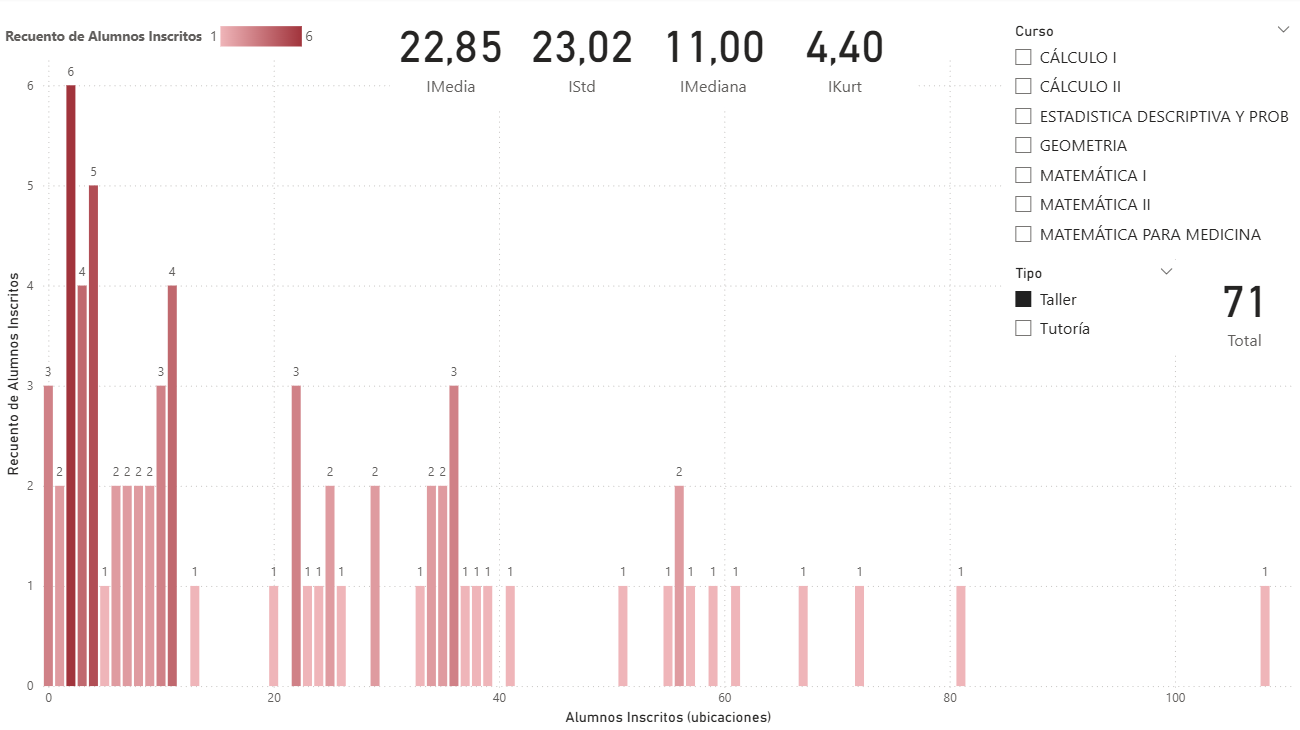

The page's visual inventory and layout, read from the dashboard file:
{"tool":"powerbi","page":{"name":"Puntualidad","canvas":[1280,720],"ordinal":3},"visuals":[{"type":"clusteredColumnChart","fields":{"Y":["CountNonNull(FullMeetingsInfoExtra - Jun -Aug (Clean).Puntualidad (minutos))"],"Category":["Meetings - Jun -Aug (Clean).Puntualidad (minutos) (ubicaciones)"]},"box":[0,19.6,1280,700.4],"z":0},{"type":"slicer","fields":{"Values":["Meetings - Jun -Aug (Clean).Tipo"]},"box":[1146.4,25.5,133.6,93.3],"z":1000},{"type":"card","fields":{"Values":["Meetings - Jun -Aug (Clean).PKurt"]},"box":[1142.5,359.5,137.5,118.9],"z":2000},{"type":"card","fields":{"Values":["Meetings - Jun -Aug (Clean).PStd"]},"box":[1142.5,237.7,137.5,118.9],"z":3000},{"type":"card","fields":{"Values":["Meetings - Jun -Aug (Clean).PMedia"]},"box":[1142.5,118.9,137.5,118.9],"z":4000}]}

Visuals, with their boxes in screenshot pixels (x1, y1, x2, y2), scaled from the page's 1280x720 canvas onto the 1300x730 screenshot:
clusteredColumnChart - CountNonNull(FullMeetingsInfoExtra - Jun -Aug (Clean).Puntualidad (minutos)) x Meetings - Jun -Aug (Clean).Puntualidad (minutos) (ubicaciones): [left=0, top=20, right=1299, bottom=729]
slicer - Meetings - Jun -Aug (Clean).Tipo: [left=1164, top=26, right=1299, bottom=120]
card - Meetings - Jun -Aug (Clean).PKurt: [left=1160, top=364, right=1299, bottom=485]
card - Meetings - Jun -Aug (Clean).PStd: [left=1160, top=241, right=1299, bottom=362]
card - Meetings - Jun -Aug (Clean).PMedia: [left=1160, top=121, right=1299, bottom=241]
